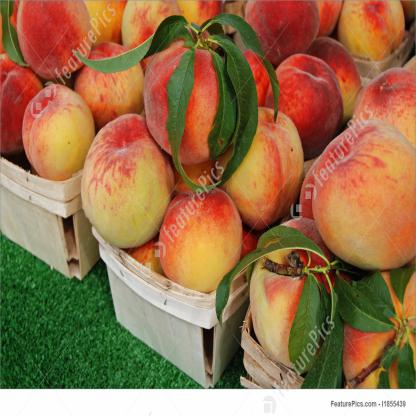peach leaf: (212, 233, 333, 331), (203, 7, 282, 121), (165, 41, 217, 199), (68, 13, 189, 79), (223, 33, 260, 192), (288, 272, 321, 376), (359, 270, 400, 320)
